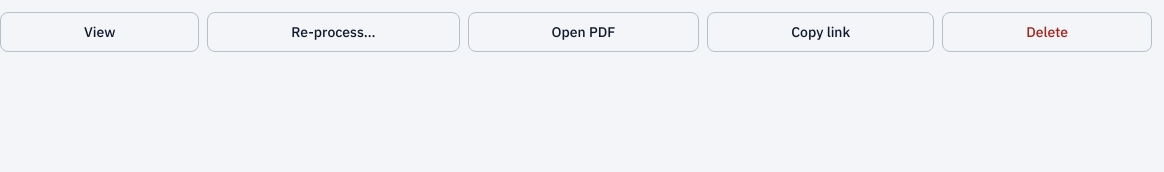
Test case: JobActions delete › names the targets whose content stays after a delete
This screenshot has width=1164, height=172.
Click the button "Delete" at coordinates (1047, 32), box [942, 12, 1152, 52]
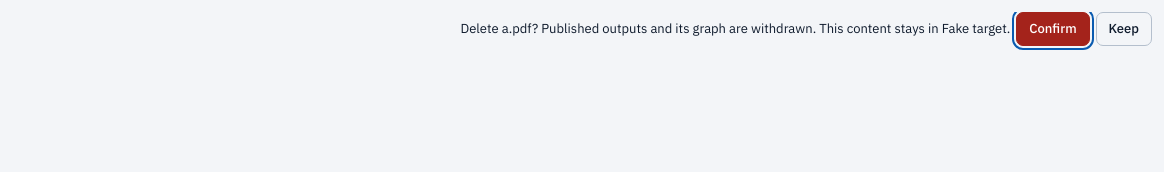
Expected: the text "Delete a.pdf?" shows "Published outputs and its graph are withdrawn. This content stays in Fake target.", [460, 20, 1010, 38]
